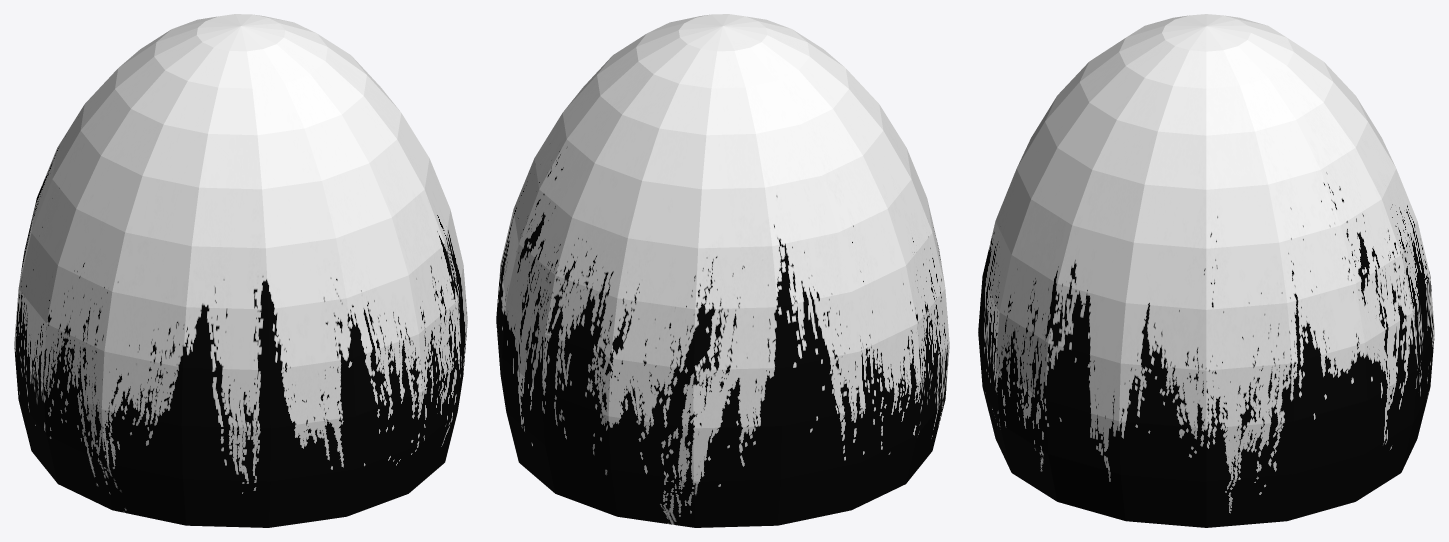
Rendered from Dome_Projectile1.fbx.
3 renders of one model, left to right at view 1: azimuth 30°, elevation 25°; view 2: azimuth 150°, elevation 25°; view 3: azimuth 270°, elevation 25°, orthographic.
Visible parts, largest first — view 1: Sphere; view 2: Sphere; view 3: Sphere.
Boxes of the visible parts, x1,y1,x2,y2 form: Sphere: (14, 14, 467, 527); Sphere: (496, 14, 949, 527); Sphere: (978, 14, 1434, 527).
Size of the model in its own units: 189 by 188 by 189.
